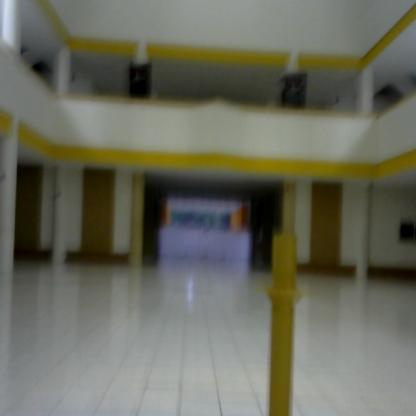pole: (249, 218, 316, 416)
